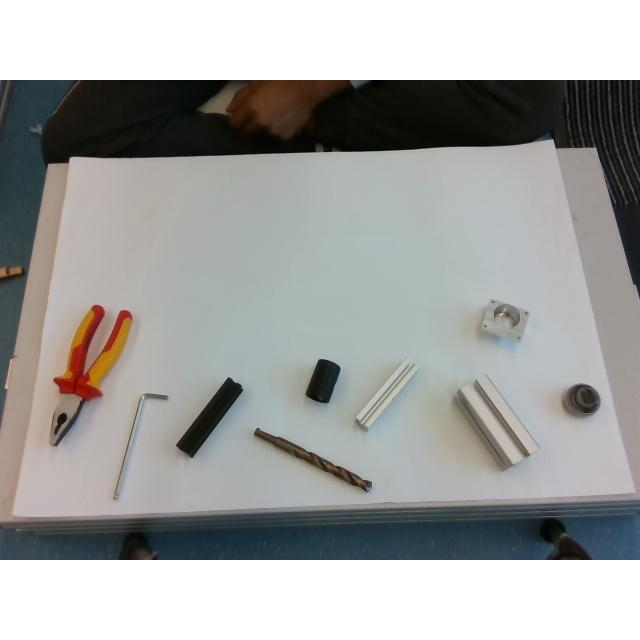Bearing2: (564, 384, 600, 414)
Drill: (254, 428, 370, 492)
F20_20_B: (178, 376, 242, 456)
F20_20_G: (356, 358, 416, 429)
S40_40_G: (454, 374, 538, 468)
